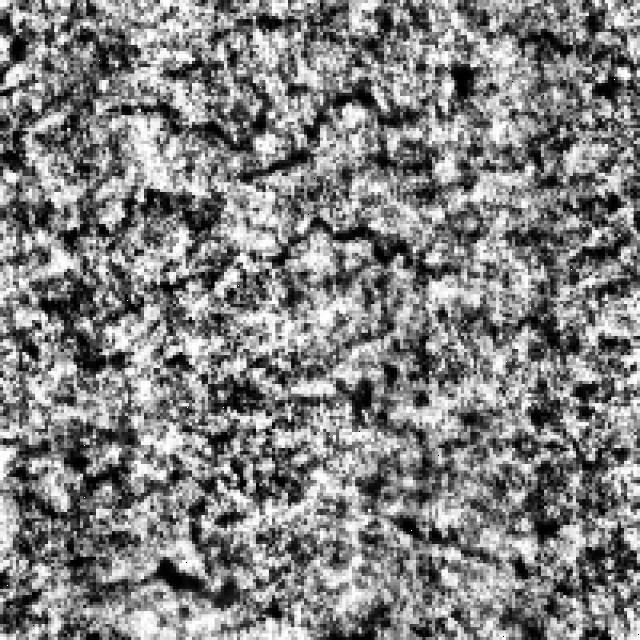Pitted_Surface: (77, 13, 605, 176), (362, 300, 634, 580), (224, 150, 640, 298)
